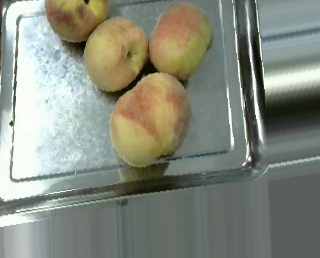Peach: (110, 72, 190, 167), (147, 0, 213, 80), (83, 16, 148, 91), (43, 0, 110, 42)
